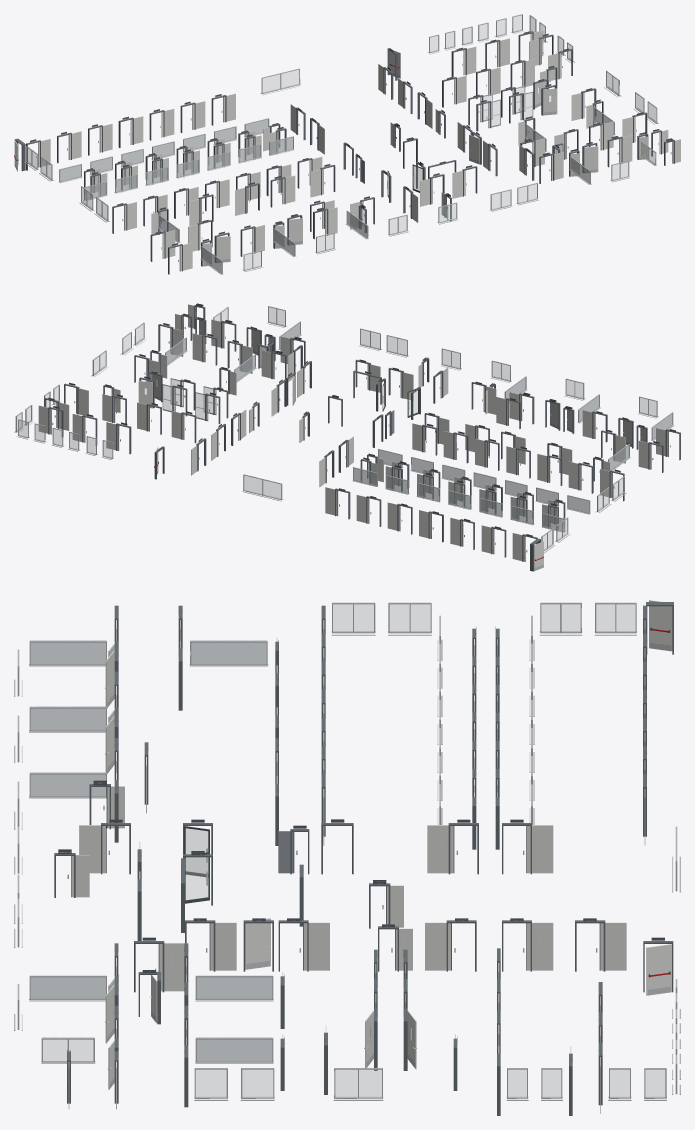
Rendered from 27_n2_puertas.glb.
3 views of the same model, one above another, from view 1: azimuth 30°, elevation 25°; view 2: azimuth 150°, elevation 25°; view 3: azimuth 270°, elevation 25° (orthographic). The views are drawn at different scales.
Visible parts, largest first — view 1: Ventana N2 · 127, Puerta N2 · 16, Puerta N2 · 48, Puerta N2 · 74, Puerta N2 · 20, Puerta N2 · 12, Puerta N2 · 49, Puerta N2 · 51, Puerta N2 · 35, Puerta N2 · 82, Puerta N2 · 65, Puerta N2 · 29 (+24 smaller); view 2: Ventana N2 · 127, Puerta N2 · 05, Puerta N2 · 21, Puerta N2 · 38, Puerta N2 · 77, Puerta N2 · 25, Puerta N2 · 24, Puerta N2 · 20, Puerta N2 · 69, Puerta N2 · 09, Puerta N2 · 82, Puerta N2 · 04 (+25 smaller); view 3: Ventana N2 · 117, Ventana N2 · 118, Ventana N2 · 113, Ventana N2 · 114, Ventana N2 · 115, Ventana N2 · 119, Ventana N2 · 116, Ventana N2 · 131, Puerta N2 · 90, Puerta N2 · 91, Puerta N2 · 85, Puerta N2 · 56 (+23 smaller).
Boxes of the visible parts, box(x1,y1,x2,y2) form: Ventana N2 · 127: box(260, 68, 300, 95); Puerta N2 · 16: box(149, 108, 174, 140); Puerta N2 · 48: box(270, 175, 295, 207); Puerta N2 · 74: box(541, 85, 557, 115); Puerta N2 · 20: box(180, 101, 205, 132); Puerta N2 · 12: box(118, 116, 143, 147); Puerta N2 · 49: box(310, 165, 335, 197); Puerta N2 · 51: box(452, 166, 477, 198); Puerta N2 · 35: box(582, 143, 598, 172); Puerta N2 · 82: box(451, 46, 476, 77); Puerta N2 · 65: box(607, 135, 632, 167); Puerta N2 · 29: box(214, 232, 230, 262); Ventana N2 · 127: box(242, 474, 283, 501); Puerta N2 · 05: box(568, 461, 593, 493); Puerta N2 · 21: box(443, 431, 468, 463); Puerta N2 · 38: box(192, 333, 217, 365); Puerta N2 · 77: box(171, 411, 196, 443); Puerta N2 · 25: box(412, 423, 437, 455); Puerta N2 · 24: box(325, 487, 350, 519); Puerta N2 · 20: box(356, 495, 381, 526); Puerta N2 · 69: box(195, 392, 220, 424); Puerta N2 · 09: box(537, 454, 562, 485); Puerta N2 · 82: box(106, 422, 131, 454); Puerta N2 · 04: box(481, 525, 506, 557); Ventana N2 · 117: box(195, 975, 273, 1001); Ventana N2 · 118: box(195, 1037, 273, 1063); Ventana N2 · 113: box(189, 640, 268, 666); Ventana N2 · 114: box(29, 640, 106, 666); Ventana N2 · 115: box(29, 706, 106, 732); Ventana N2 · 119: box(29, 975, 106, 1001); Ventana N2 · 116: box(29, 772, 106, 798); Ventana N2 · 131: box(333, 1068, 383, 1100); Puerta N2 · 90: box(575, 920, 626, 971); Puerta N2 · 91: box(502, 920, 553, 971); Puerta N2 · 85: box(427, 823, 478, 874); Puerta N2 · 56: box(643, 941, 673, 995).
Bounding box in the file's own units: 50.49 × 2.65 × 30.11.
Materials: 16 (1 with a texture image).
